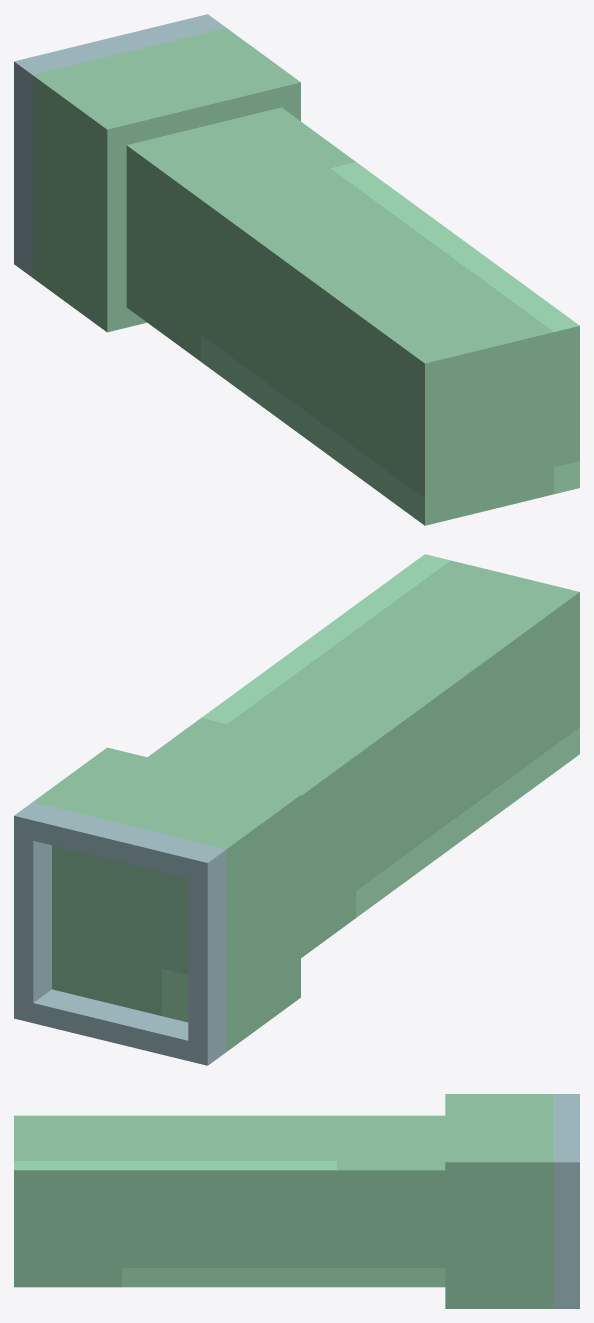
File: IAFarmnerFlashlight.gltf
The picture shows the model from 3 angles, top to bottom: view 1: azimuth 30°, elevation 25°; view 2: azimuth 150°, elevation 25°; view 3: azimuth 270°, elevation 25°; orthographic projection. The views are drawn at different scales.
Visible parts, largest first — view 1: ccb1fff7-5a54-7600-5c74-20799e91fef3, 3a573bff-3c75-84c5-3464-b3637239d47a, f2aa5d82-662c-d8fc-e6cf-2812631354ee, 34f6791c-3a5a-d5d3-8bb3-404d5573b8a4; view 2: ccb1fff7-5a54-7600-5c74-20799e91fef3, 3a573bff-3c75-84c5-3464-b3637239d47a, f2aa5d82-662c-d8fc-e6cf-2812631354ee, 34f6791c-3a5a-d5d3-8bb3-404d5573b8a4, dd71c031-1cc6-6918-a4cf-22d903687c34, 42c569e8-2c0f-587f-eb03-75dfaa7bf39d; view 3: ccb1fff7-5a54-7600-5c74-20799e91fef3, 3a573bff-3c75-84c5-3464-b3637239d47a, 42c569e8-2c0f-587f-eb03-75dfaa7bf39d, 34f6791c-3a5a-d5d3-8bb3-404d5573b8a4, dd71c031-1cc6-6918-a4cf-22d903687c34.
Part boxes in pixels (x1,y1,x2,y2): ccb1fff7-5a54-7600-5c74-20799e91fef3: (126,107,579,525); 3a573bff-3c75-84c5-3464-b3637239d47a: (32,28,300,332); f2aa5d82-662c-d8fc-e6cf-2812631354ee: (14,57,51,276); 34f6791c-3a5a-d5d3-8bb3-404d5573b8a4: (14,14,225,91); ccb1fff7-5a54-7600-5c74-20799e91fef3: (148,554,579,957); 3a573bff-3c75-84c5-3464-b3637239d47a: (33,747,300,1051); f2aa5d82-662c-d8fc-e6cf-2812631354ee: (188,845,226,1064); 34f6791c-3a5a-d5d3-8bb3-404d5573b8a4: (14,802,225,881); dd71c031-1cc6-6918-a4cf-22d903687c34: (14,989,226,1065); 42c569e8-2c0f-587f-eb03-75dfaa7bf39d: (14,802,51,1022); ccb1fff7-5a54-7600-5c74-20799e91fef3: (14,1115,445,1287); 3a573bff-3c75-84c5-3464-b3637239d47a: (445,1094,552,1308); 42c569e8-2c0f-587f-eb03-75dfaa7bf39d: (553,1156,579,1308); 34f6791c-3a5a-d5d3-8bb3-404d5573b8a4: (553,1094,579,1176); dd71c031-1cc6-6918-a4cf-22d903687c34: (553,1294,579,1308).
Bounding box in the file's own units: 1.5 × 1.5 × 5.25.
Materials: 2 (2 with a texture image).
